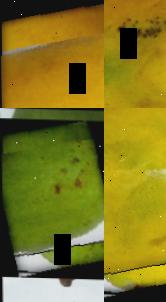PartiallyRipe: (104, 108, 166, 297)
Ripe: (0, 4, 104, 108), (104, 0, 166, 108)
Unripe: (0, 123, 104, 275)
